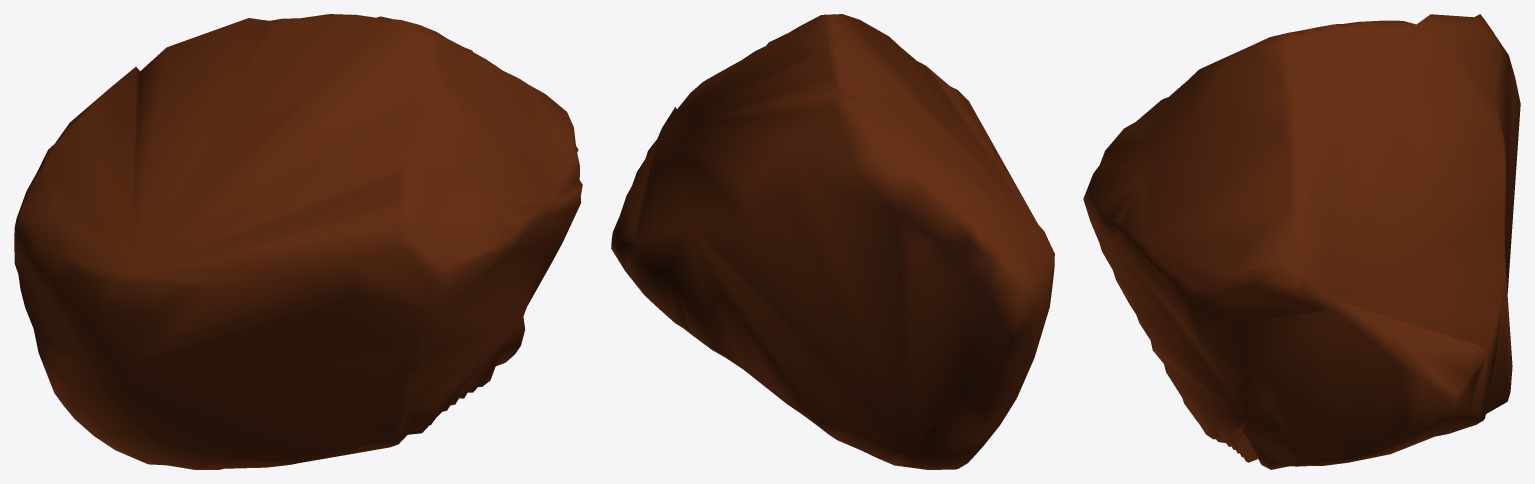
File: Rock5.fbx
3 views of the same model, side by side, from view 1: azimuth 30°, elevation 25°; view 2: azimuth 150°, elevation 25°; view 3: azimuth 270°, elevation 25° (orthographic). The views are drawn at different scales.
Parts seen in each view (by area): view 1: Rock5; view 2: Rock5; view 3: Rock5.
Boxes of the visible parts, x1,y1,x2,y2 form: Rock5: [14, 14, 582, 469]; Rock5: [611, 14, 1054, 469]; Rock5: [1083, 14, 1520, 469].
Size of the model in its own units: 388 by 324 by 277.
